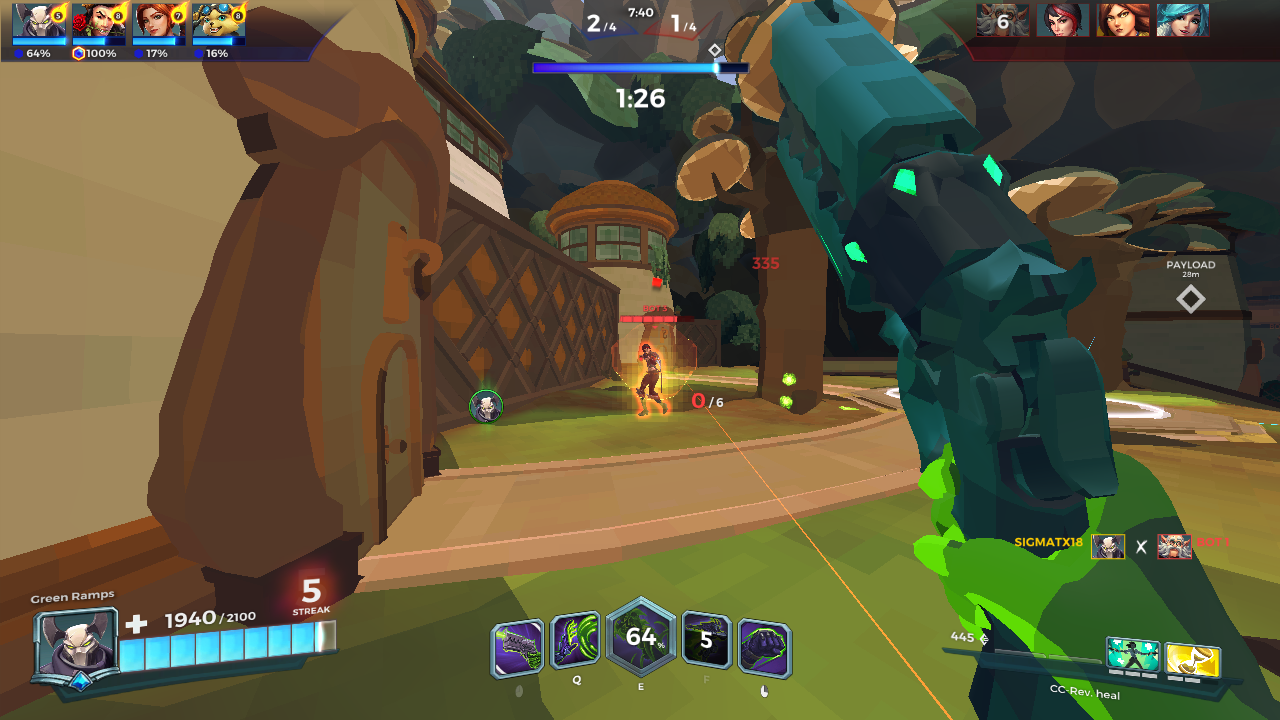model: (630, 341, 670, 415)
